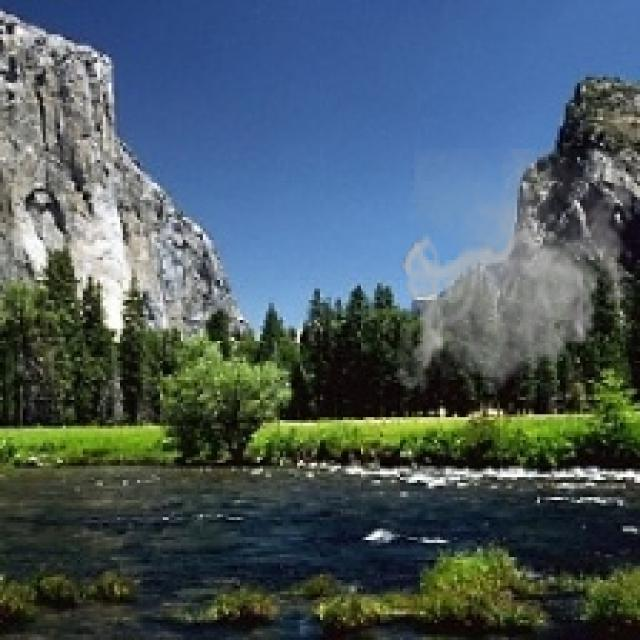smoke: (397, 149, 637, 397)
